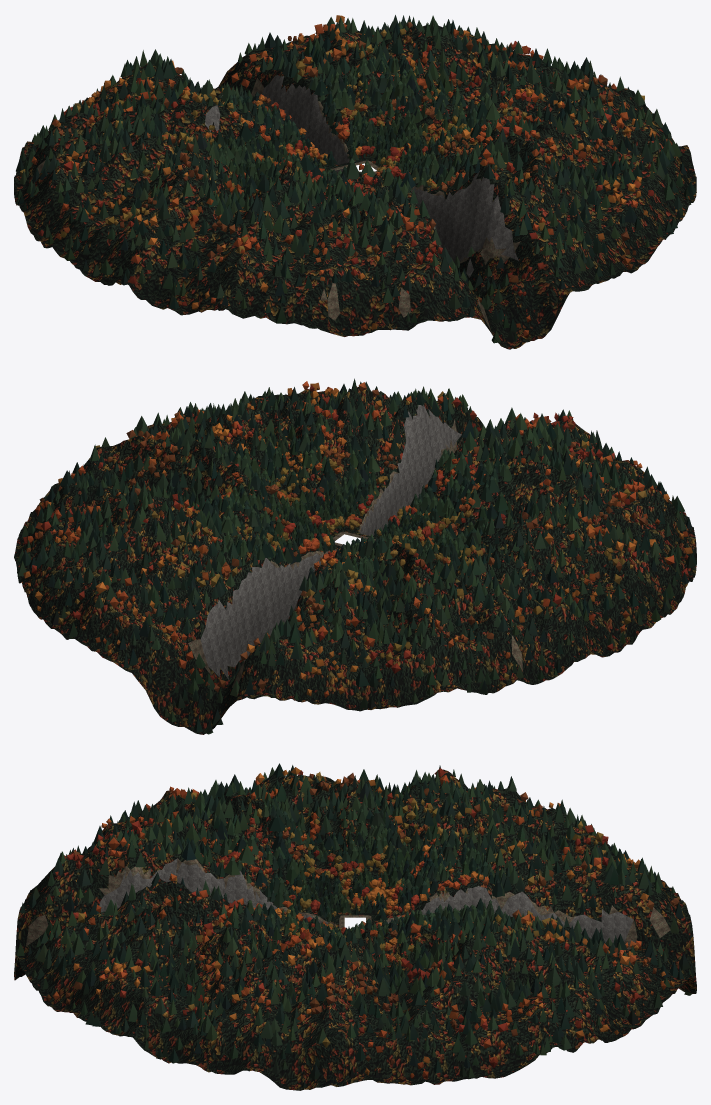
File: backdrop_near_rect_iron_autumn.glb
The picture shows the model from 3 angles, top to bottom: view 1: azimuth 30°, elevation 25°; view 2: azimuth 150°, elevation 25°; view 3: azimuth 270°, elevation 25°; orthographic projection.
Parts seen in each view (by area): view 1: near_land_S, near_land_W, trees_land_W_0, trees_land_S_0, trees_land_E_0, trees_land_N_0, near_land_E, near_land_N; view 2: near_land_N, near_land_W, trees_land_N_0, trees_land_W_0, trees_land_E_0, trees_land_S_0, near_land_E, near_land_S; view 3: near_land_E, trees_land_E_0, near_land_S, trees_land_W_0, near_land_N, trees_land_N_0, trees_land_S_0, near_land_W.
Boxes of the visible parts, x1,y1,x2,y2 form: near_land_S: (266,123,683,349); near_land_W: (14,101,333,318); trees_land_W_0: (16,93,336,312); trees_land_S_0: (272,120,681,343); trees_land_E_0: (361,15,696,215); trees_land_N_0: (31,15,438,166); near_land_E: (359,25,696,216); near_land_N: (26,25,429,173); near_land_N: (26,509,444,734); near_land_W: (375,459,696,693); trees_land_N_0: (35,501,442,734); trees_land_W_0: (385,456,696,694); trees_land_E_0: (17,387,345,586); trees_land_S_0: (284,378,684,537); near_land_E: (14,395,353,592); near_land_S: (275,386,672,539); near_land_E: (113,908,595,1090); trees_land_E_0: (116,902,591,1088); near_land_S: (14,811,340,1034); trees_land_W_0: (118,763,566,914); near_land_N: (371,813,696,1042); trees_land_N_0: (375,805,694,1034); trees_land_S_0: (16,800,337,1033); near_land_W: (141,769,566,920).
Bounding box in the file's own units: 577 × 172 × 576.
Materials: 4 (3 with a texture image).
